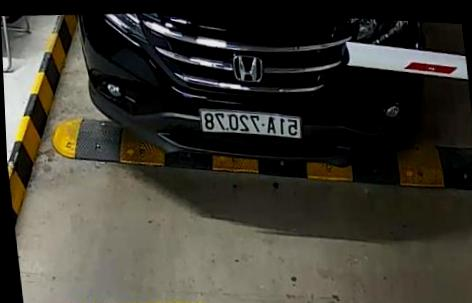License_Plate: (198, 106, 305, 147)
